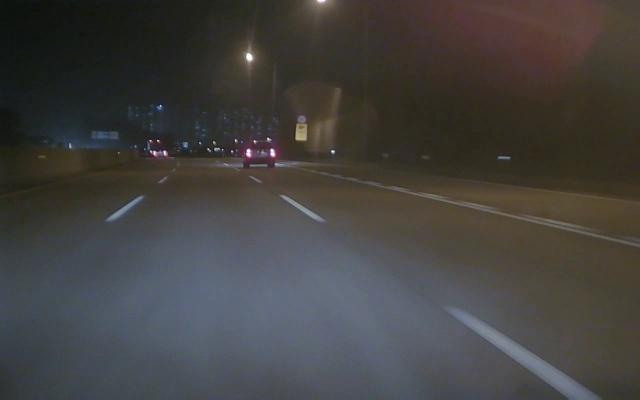lane: (280, 191, 601, 398), (359, 182, 638, 249), (101, 194, 147, 224)
